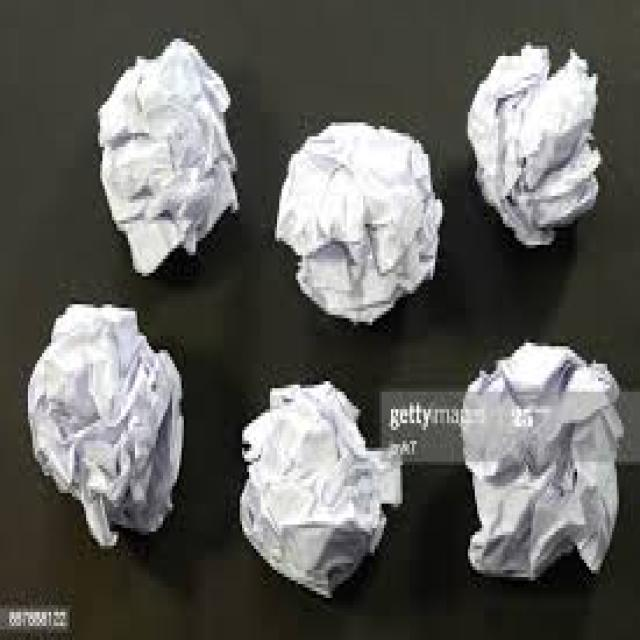paper: (456, 336, 619, 581), (26, 297, 182, 549), (235, 374, 400, 602), (272, 116, 440, 326), (93, 35, 240, 269), (463, 38, 598, 245)
